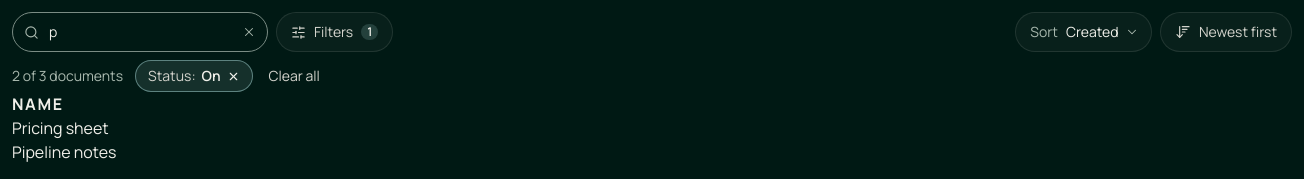
ListControls › shows the count and a Clear all only while narrowed
The image size is (1304, 179).
Expected: the text "2 of 3 documents" is shown, [12, 66, 123, 86]
Click the button "Clear all". click: coordinates (294, 76)
box: [260, 60, 328, 92]
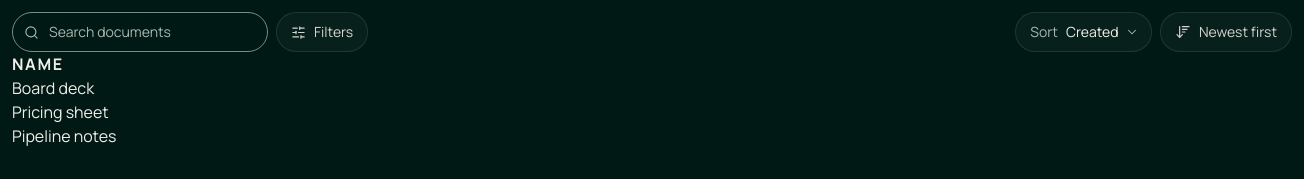
Expected: the number of list items is 3, [12, 77, 94, 99]; [12, 101, 109, 123]; [12, 125, 116, 147]
Expected: the button "Clear all" is gone
